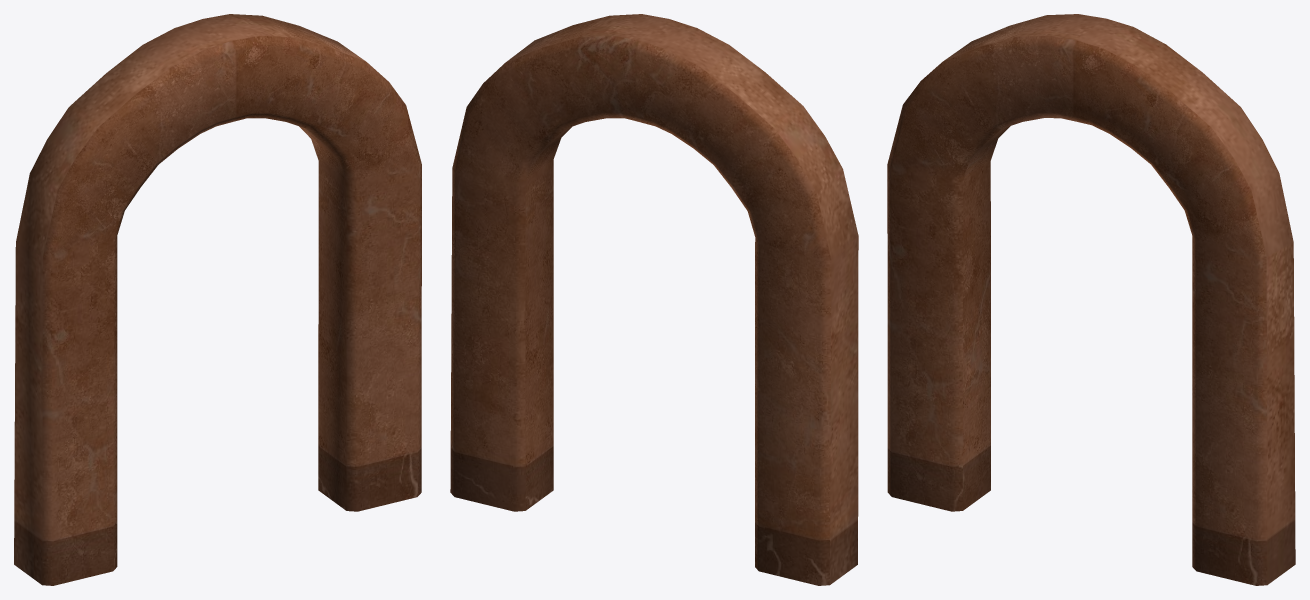
The model's file is arkaTwo.glb.
3 views of the same model, side by side, from view 1: azimuth 30°, elevation 25°; view 2: azimuth 150°, elevation 25°; view 3: azimuth 330°, elevation 25° (orthographic).
Parts seen in each view (by area): view 1: arka_new_version_02; view 2: arka_new_version_02; view 3: arka_new_version_02.
Boxes of the visible parts, bbox=[...] form: arka_new_version_02: bbox=[14, 14, 421, 585]; arka_new_version_02: bbox=[450, 14, 858, 585]; arka_new_version_02: bbox=[887, 14, 1295, 585].
Size of the model in its own units: 1.98 by 2.49 by 0.3342.
1 material, 1 textured.
